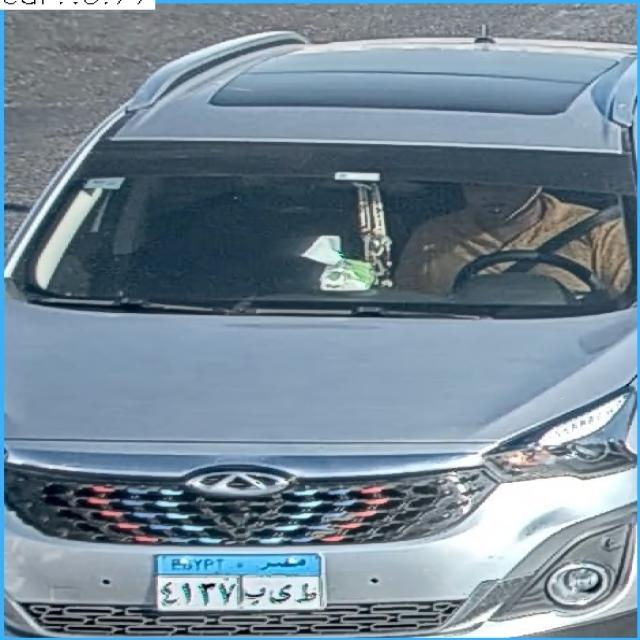windshield: (32, 143, 634, 315)
